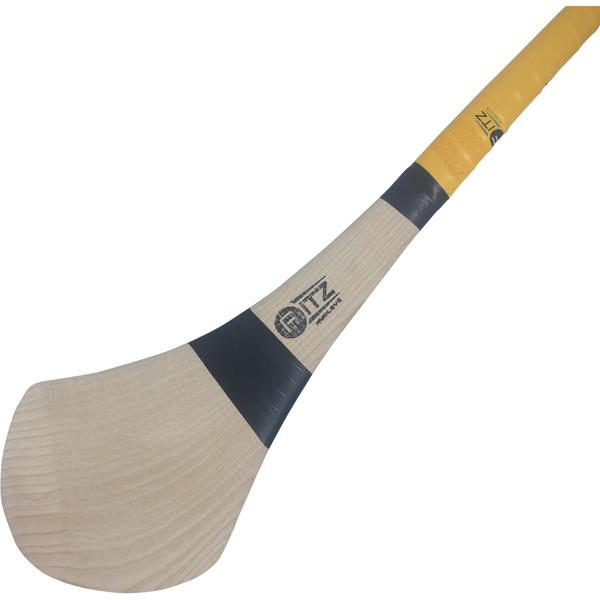hurley: (2, 5, 598, 595)
